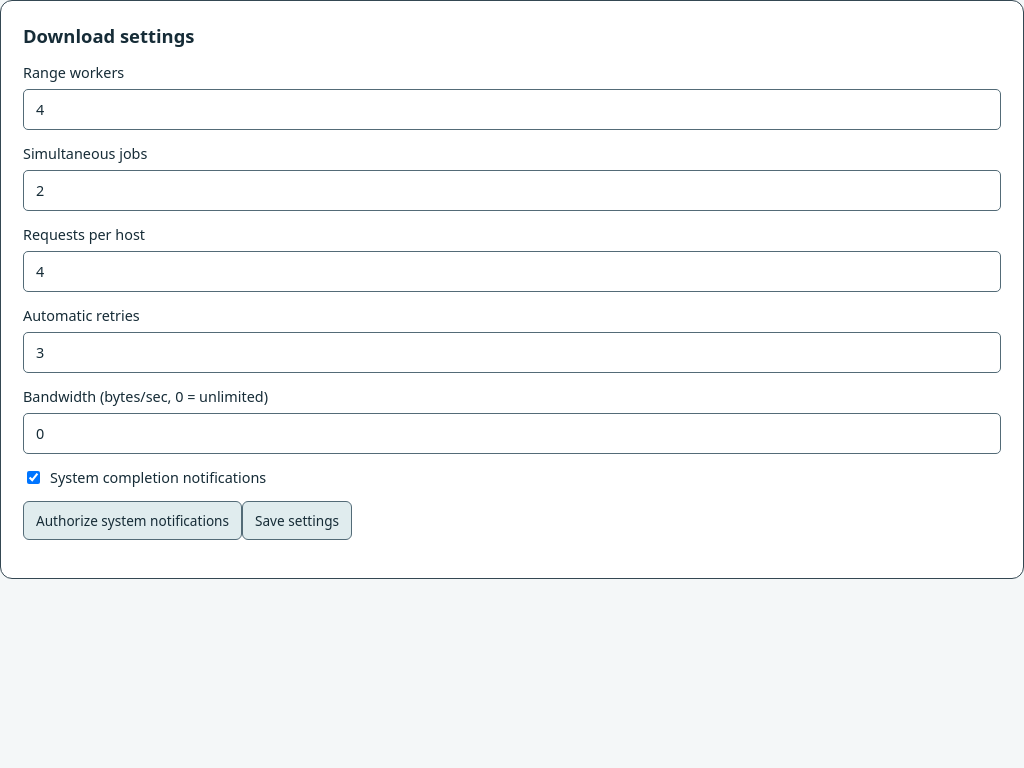
edits bounded settings and keeps an actionable error on save failure
This screenshot has width=1024, height=768.
Replace the text in the number field labelled "Range workers" with "8": x=512, y=110 23,89 -> 1001,130
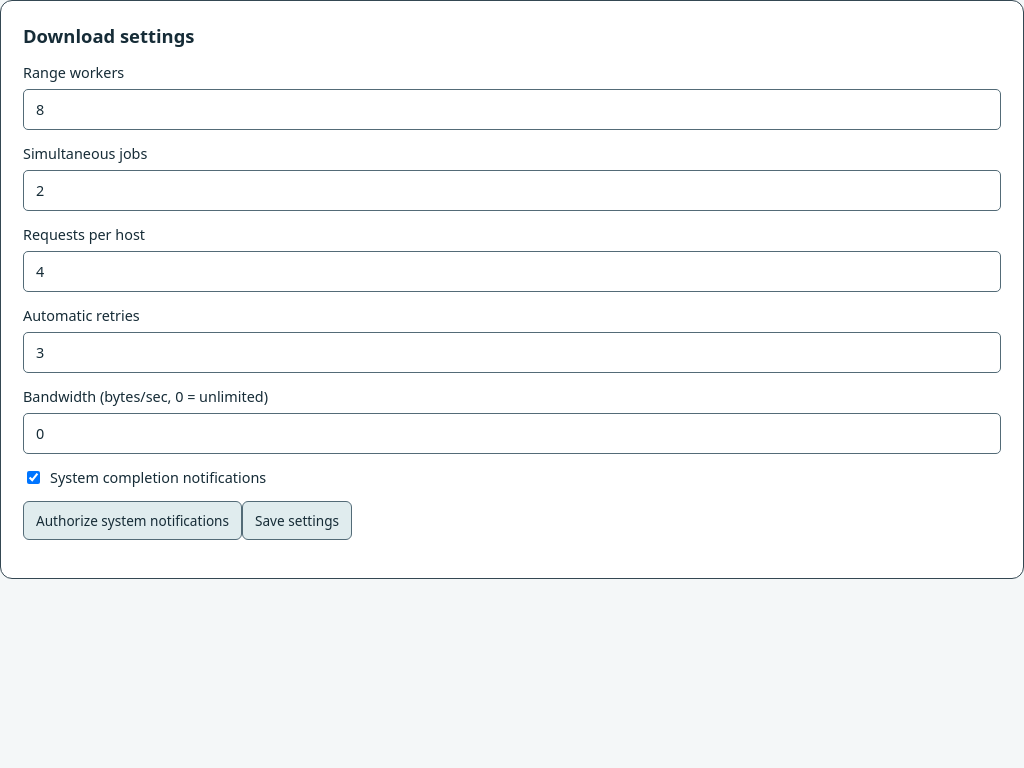
Click the checkbox labelled "System completion notifications": x=34, y=478 27,471 -> 40,484
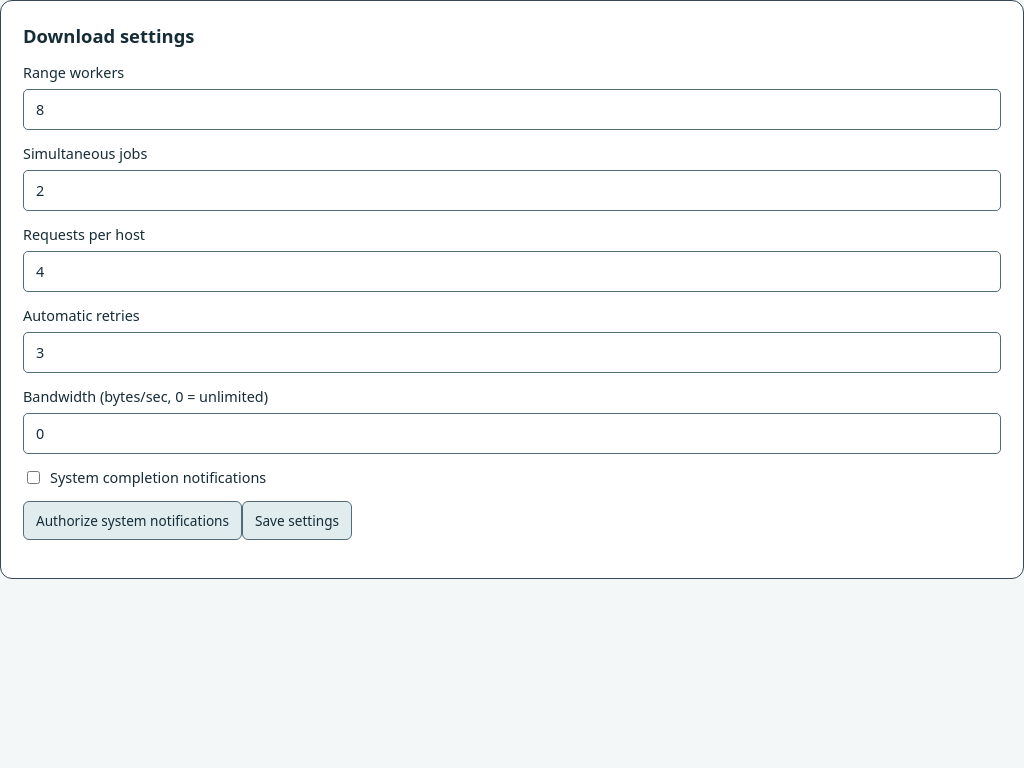
Click the button "Save settings": x=297, y=521 242,501 -> 352,540
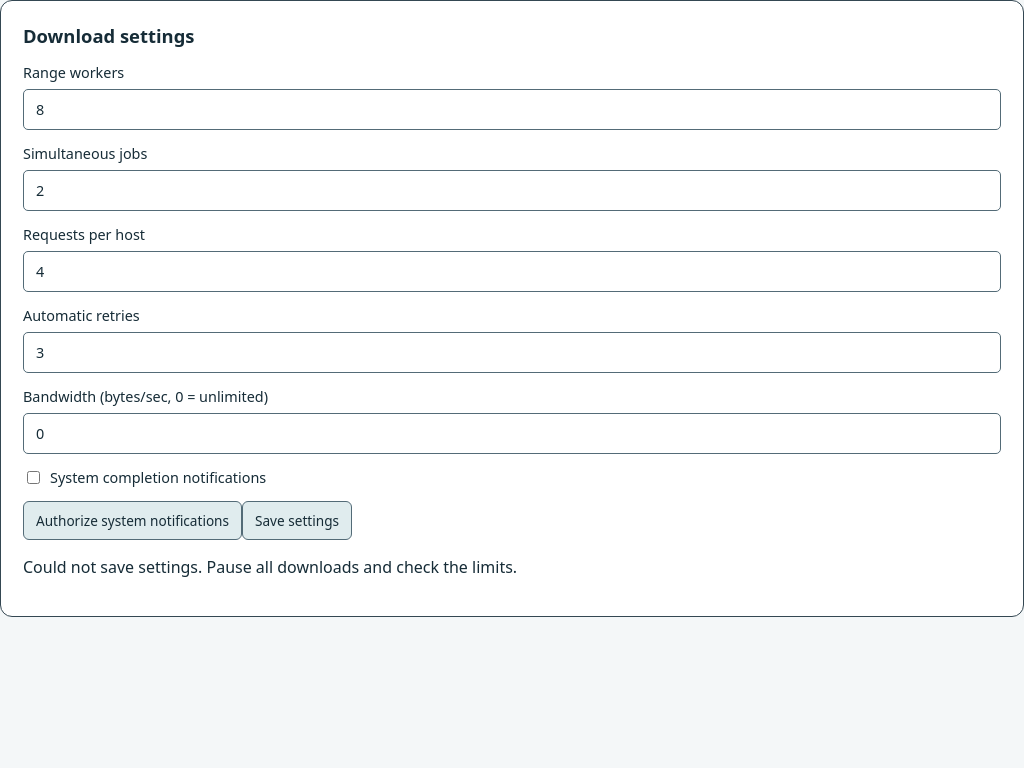
Expected: the text "Could not save settings. Pause all downloads and check the limits." is shown, 23,556 -> 517,578
Click the button "Save settings": x=297, y=521 242,501 -> 352,540
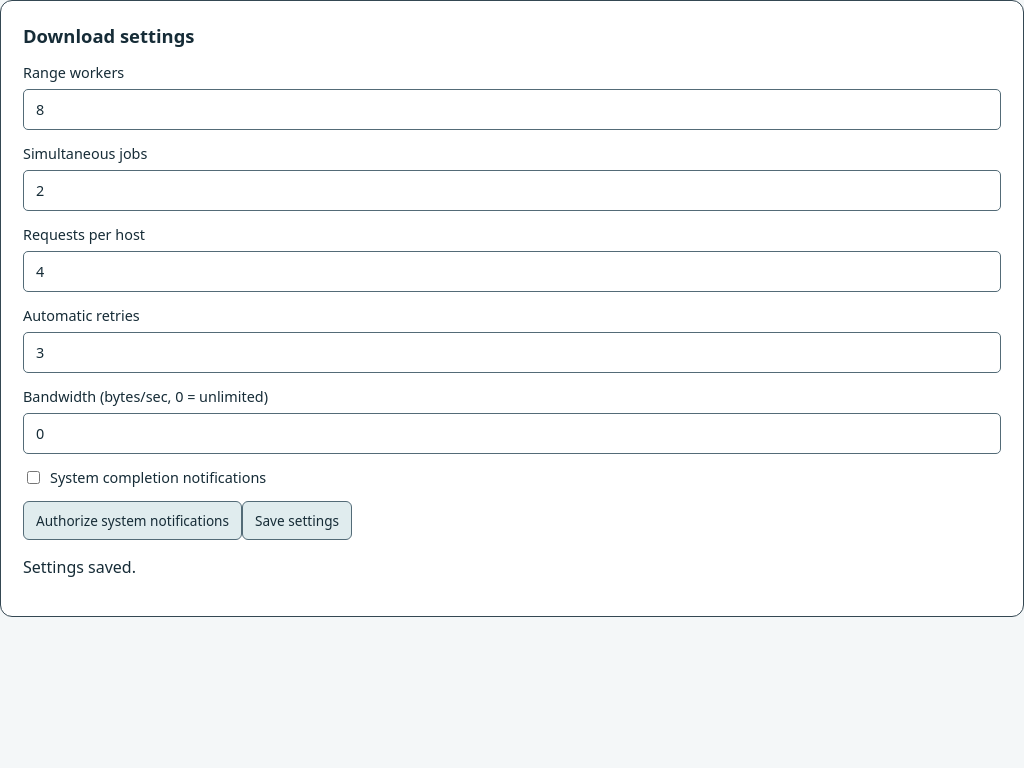
Expected: the text "Settings saved." is shown, 23,556 -> 136,578
Click the button "Authorize system notifications": x=132, y=521 23,501 -> 242,540
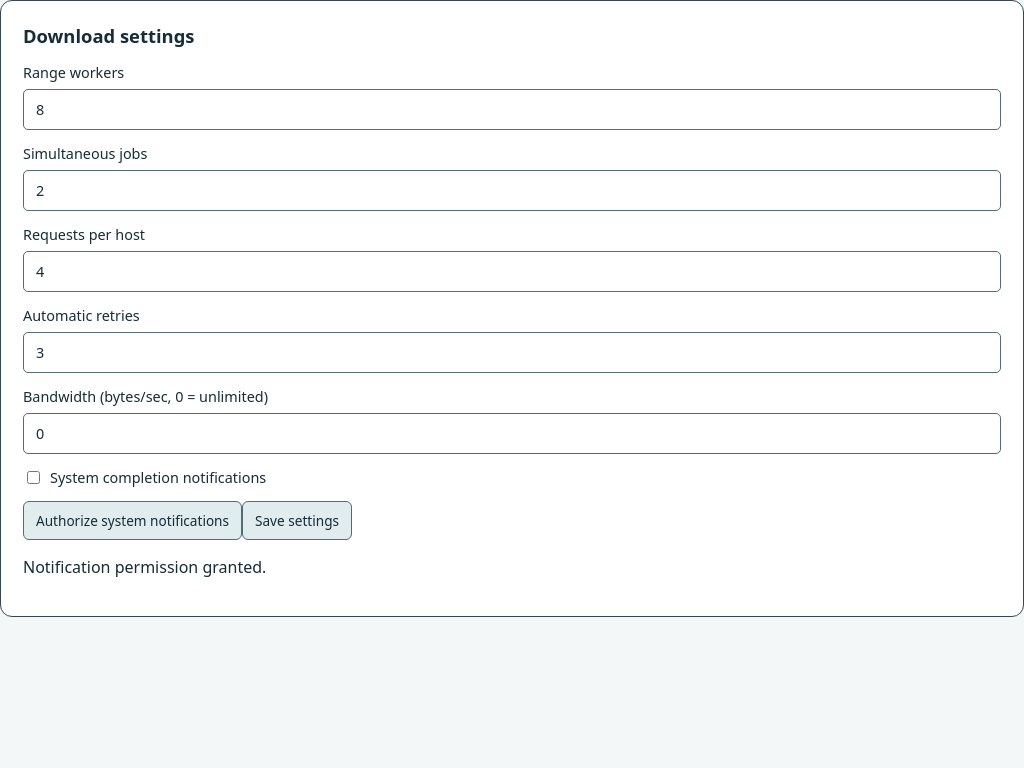
Expected: the text "Notification permission granted." is shown, 23,556 -> 266,578
Click the button "Authorize system notifications": x=132, y=521 23,501 -> 242,540
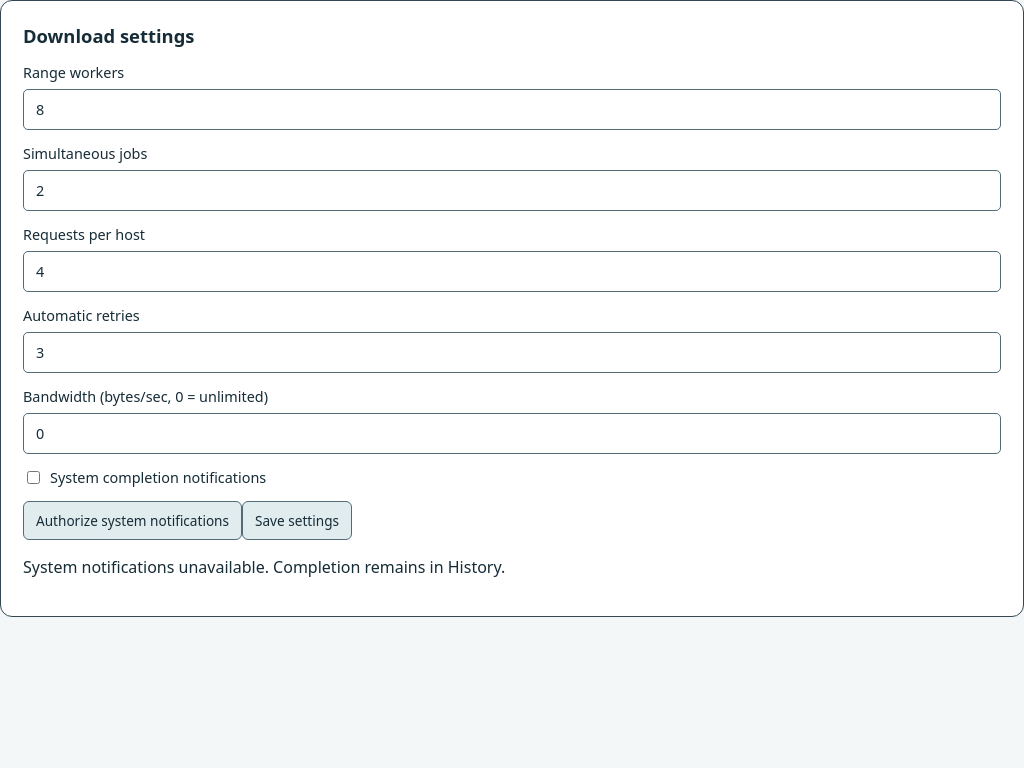
Expected: the text "System notifications unavailable. Completion remains in History." is shown, 23,556 -> 505,578
